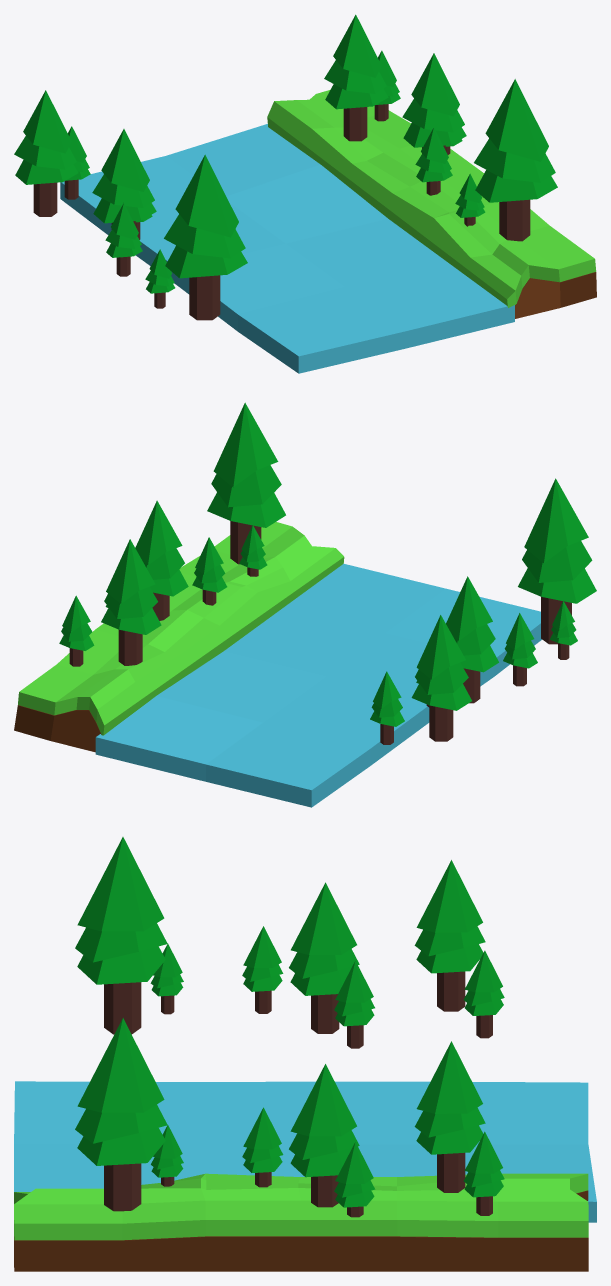
The model's file is River_Map.glb.
The picture shows the model from 3 angles, top to bottom: view 1: azimuth 30°, elevation 25°; view 2: azimuth 150°, elevation 25°; view 3: azimuth 270°, elevation 25°; orthographic projection. The views are drawn at different scales.
Visible parts, largest first — view 1: River, River Bank Grass, Tree.007, Tree, Tree.009, Tree.002, Tree.008, Tree.001, River Bank, Tree.012, Tree.005, Tree.013 (+3 smaller); view 2: River, River Bank Grass, Tree.007, Tree, Tree.009, Tree.002, Tree.008, Tree.001, River Bank, Tree.012, Tree.010, Tree.003 (+3 smaller); view 3: River, River Bank Grass, River Bank, Tree.007, Tree, Tree.009, Tree.002, Tree.008, Tree.001, Tree.011, Tree.010, Tree.012 (+5 smaller).
Part boxes in pixels (x1,y1,x2,y2): River: (60, 124, 514, 373); River Bank Grass: (267, 89, 596, 307); Tree.007: (164, 154, 247, 320); Tree: (474, 79, 557, 241); Tree.009: (14, 90, 78, 216); Tree.002: (324, 14, 388, 141); Tree.008: (92, 129, 156, 229); Tree.001: (402, 53, 466, 153); River Bank: (515, 272, 596, 318); Tree.012: (105, 203, 142, 276); Tree.005: (415, 127, 452, 195); Tree.013: (145, 249, 175, 308); River: (95, 564, 541, 807); River Bank Grass: (18, 522, 344, 735); Tree.007: (518, 478, 596, 644); Tree: (207, 402, 285, 564); Tree.009: (411, 615, 471, 741); Tree.002: (101, 539, 161, 665); Tree.008: (446, 576, 498, 703); Tree.001: (135, 500, 188, 620); River Bank: (14, 705, 101, 752); Tree.012: (503, 613, 537, 686); Tree.010: (370, 671, 404, 744); Tree.003: (59, 595, 94, 666); River: (14, 1081, 596, 1222); River Bank Grass: (14, 1173, 588, 1240); River Bank: (14, 1190, 588, 1271); Tree.007: (75, 837, 167, 1034); Tree: (75, 1018, 167, 1211); Tree.009: (414, 860, 485, 1011); Tree.002: (414, 1041, 485, 1192); Tree.008: (289, 882, 359, 1033); Tree.001: (289, 1064, 359, 1207); Tree.011: (334, 960, 374, 1048); Tree.010: (463, 950, 504, 1038); Tree.012: (242, 926, 283, 1013).
Bounding box in the file's own units: 28.72 × 13.77 × 30.45.
